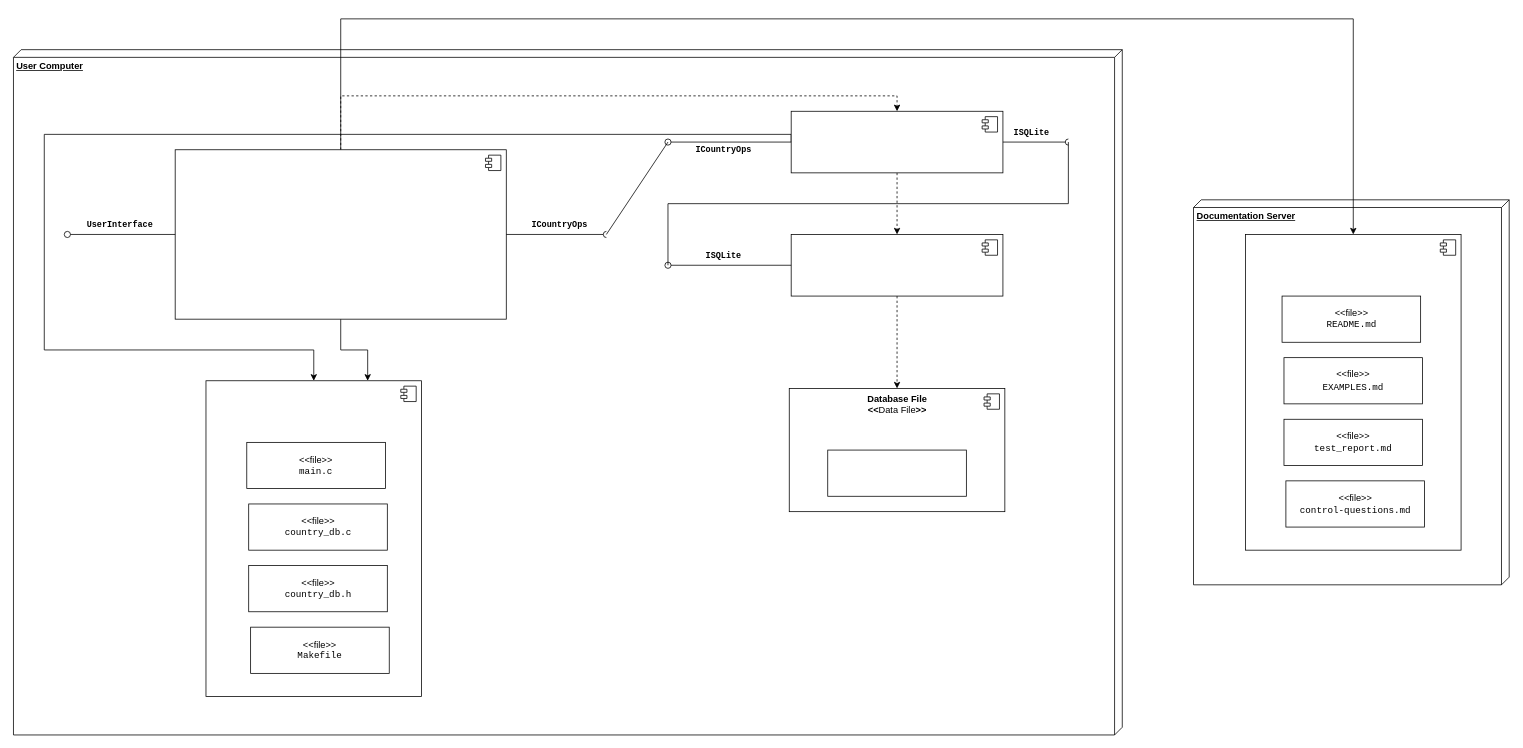
Some shapes in this 1523 by 748 pixel diagram are drawn without their labels. The shapes that lost their labels are listed below. From the top down, each one's box as (x1, y1, x2, y2) in pixels, then its label:
(790, 110, 1003, 173): CountryLib << Library >>
(174, 149, 506, 319): Main (Executable)
(790, 234, 1003, 296): SQLite3 << External Library >>
(1245, 234, 1461, 550): Documentation
(827, 449, 966, 496): <<file>> countries.db
(205, 380, 422, 696): Source Files << Source Code >>
